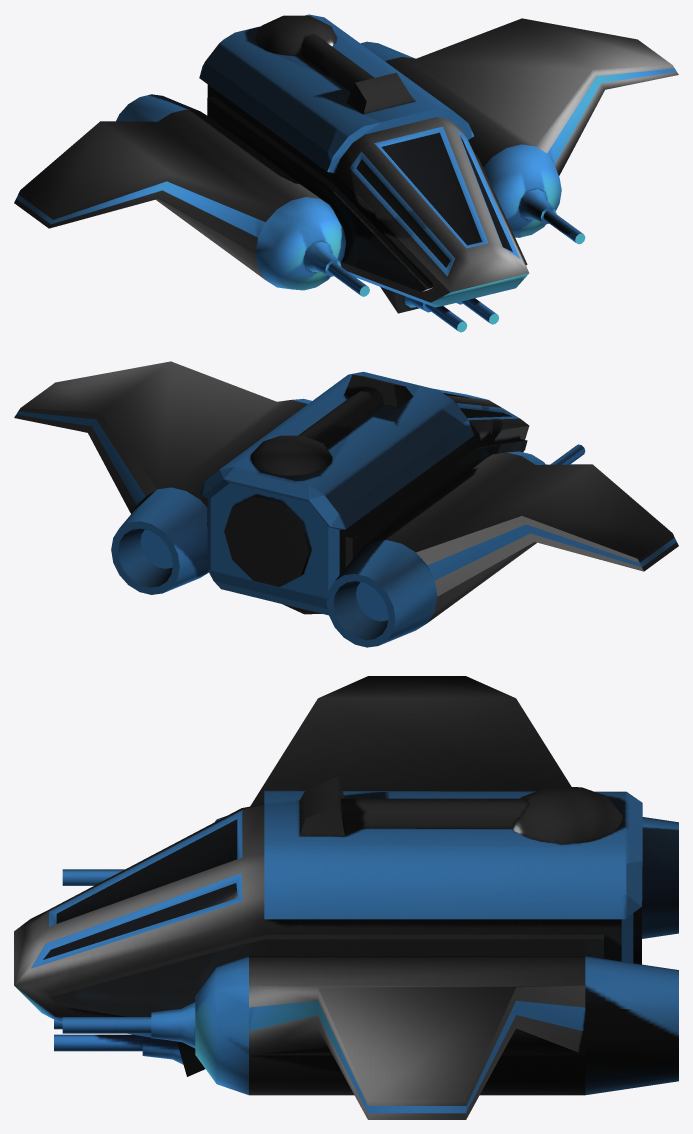
File: thai.DAE
The picture shows the model from 3 angles, top to bottom: view 1: azimuth 30°, elevation 25°; view 2: azimuth 150°, elevation 25°; view 3: azimuth 270°, elevation 25°; orthographic projection. The views are drawn at different scales.
Parts seen in each view (by area): view 1: Box001; view 2: Box001; view 3: Box001.
Part boxes in pixels (x1,y1,x2,y2): Box001: [14, 14, 678, 332]; Box001: [14, 361, 678, 647]; Box001: [14, 676, 678, 1119].
Bounding box in the file's own units: 27.49 × 7.95 × 17.89.
